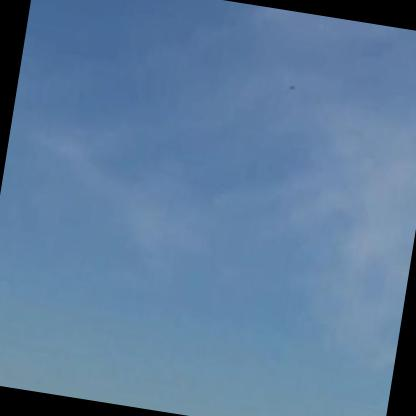plane: (288, 83, 300, 93)
